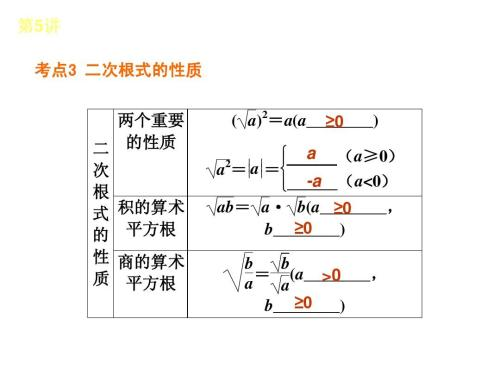division: (270, 270, 299, 277), (244, 270, 254, 275)
sqrt: (220, 251, 257, 294), (205, 153, 232, 186), (204, 193, 235, 220), (236, 105, 268, 130), (271, 251, 302, 271), (251, 194, 272, 219), (288, 193, 308, 218), (275, 273, 294, 295)
square: (223, 158, 233, 167), (262, 110, 268, 118)
